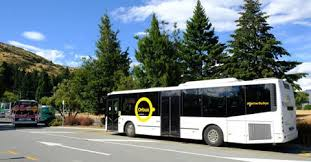bus: (102, 76, 298, 148)
